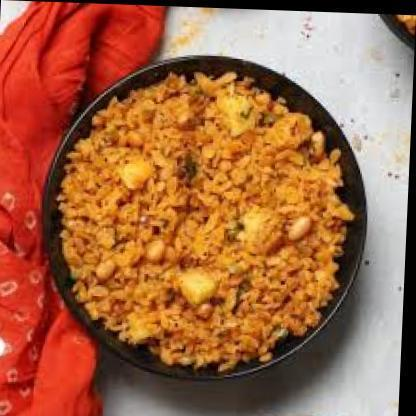poha: (51, 65, 361, 372)
